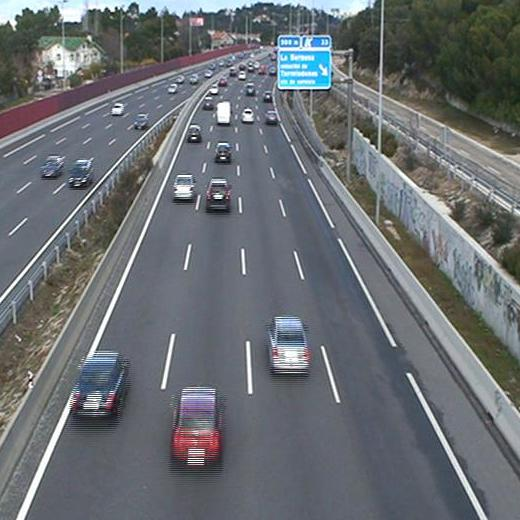car: (170, 387, 221, 466), (71, 354, 132, 419), (270, 317, 308, 374), (206, 179, 230, 210), (173, 174, 194, 200), (214, 143, 232, 163), (185, 126, 201, 143), (264, 110, 278, 127), (241, 107, 255, 123), (244, 83, 257, 95), (202, 97, 214, 110)
van: (215, 102, 230, 127)
